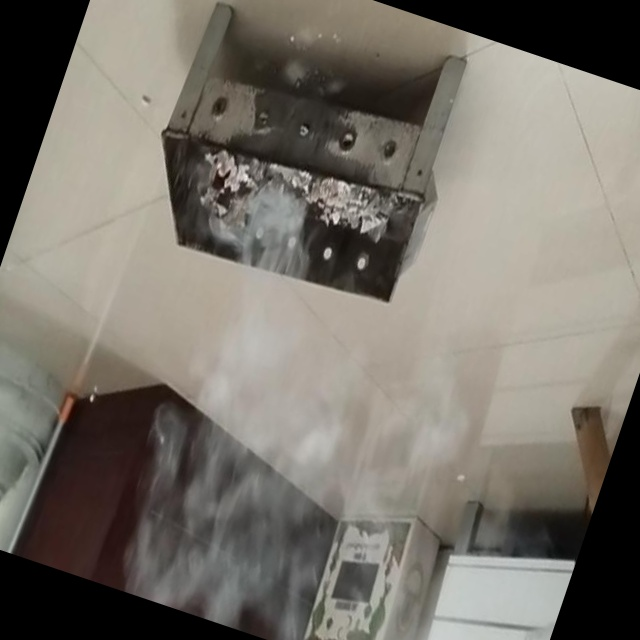smoke: (127, 218, 420, 619)
